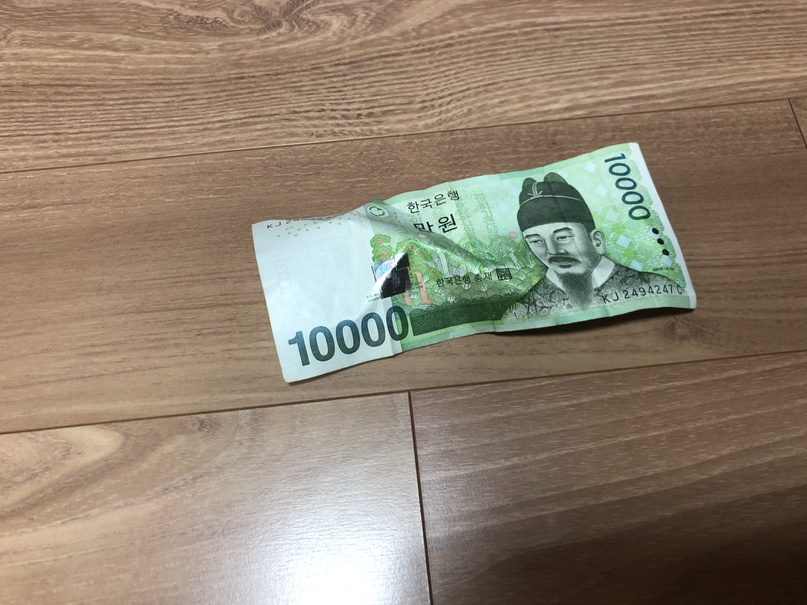10000won: (252, 142, 697, 383)
